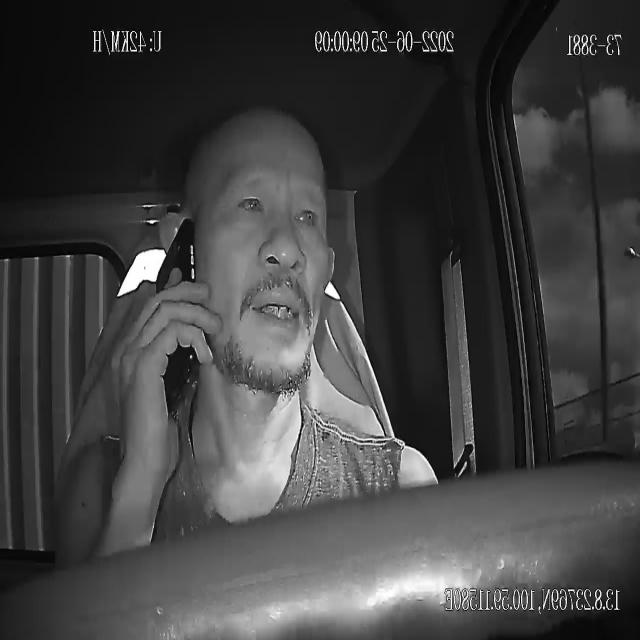phone: (154, 212, 198, 431)
